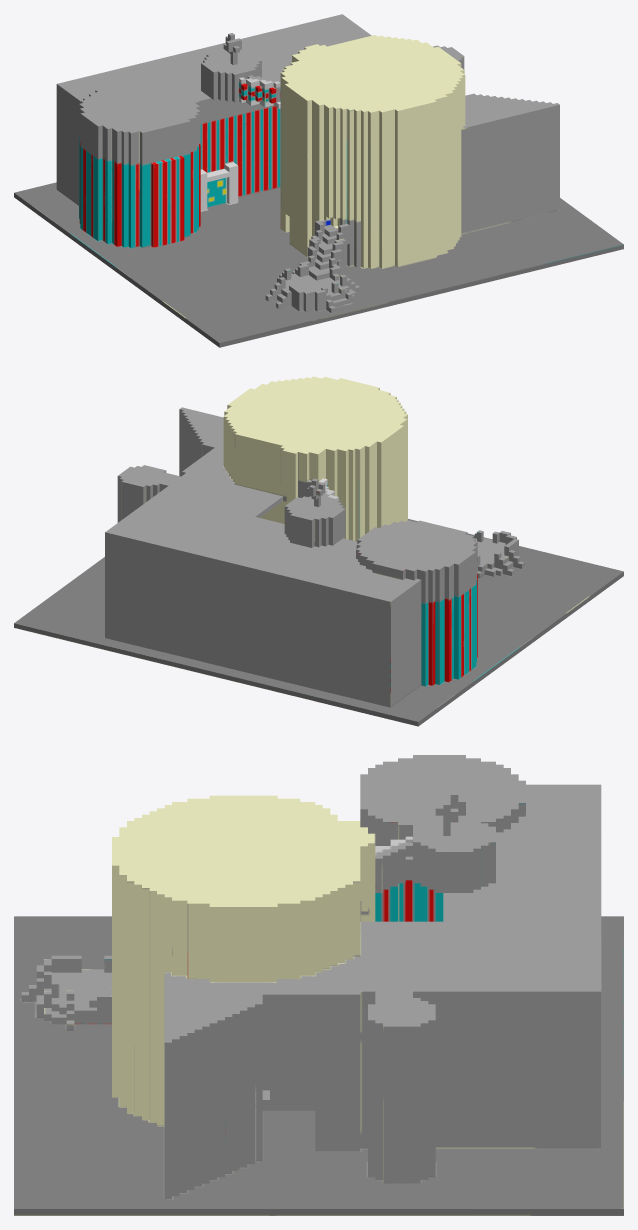
Rendered from kagakukan.glb.
3 renders of one model, top to bottom at view 1: azimuth 30°, elevation 25°; view 2: azimuth 150°, elevation 25°; view 3: azimuth 270°, elevation 25°, orthographic. The views are drawn at different scales.
Visible parts, largest first — view 1: kagakukan; view 2: kagakukan; view 3: kagakukan.
Part boxes in pixels (x1=…): kagakukan: x1=14, y1=14, x2=623, y2=347; kagakukan: x1=14, y1=376, x2=623, y2=726; kagakukan: x1=14, y1=755, x2=623, y2=1215.
Bounding box in the file's own units: 1.84 × 0.72 × 1.62.
1 material, 1 textured.
